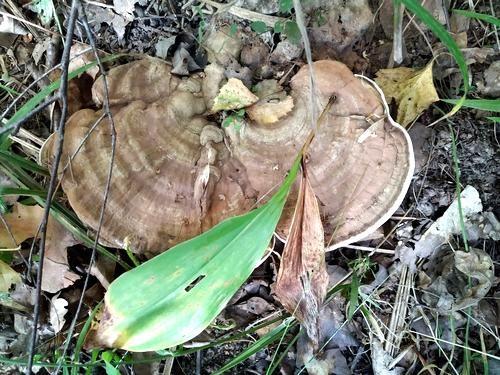Ganoderma - Fruit Body: (44, 56, 417, 261)
